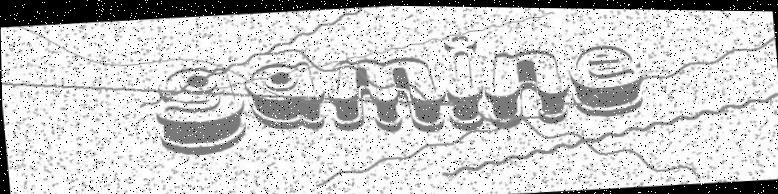a: (241, 56, 327, 134)
e: (562, 38, 646, 117)
g: (148, 61, 249, 158)
i: (438, 29, 487, 135)
m: (322, 47, 446, 138)
n: (477, 40, 571, 129)
